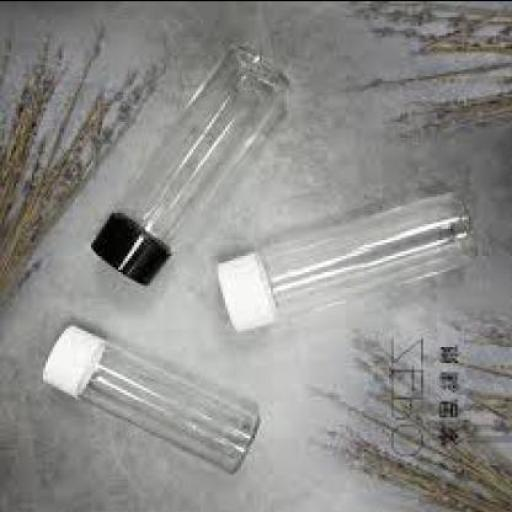glass: (112, 44, 282, 246), (254, 189, 476, 305), (75, 341, 257, 471)
metal: (91, 211, 164, 280)
plastic: (214, 248, 273, 328), (42, 322, 96, 394)
